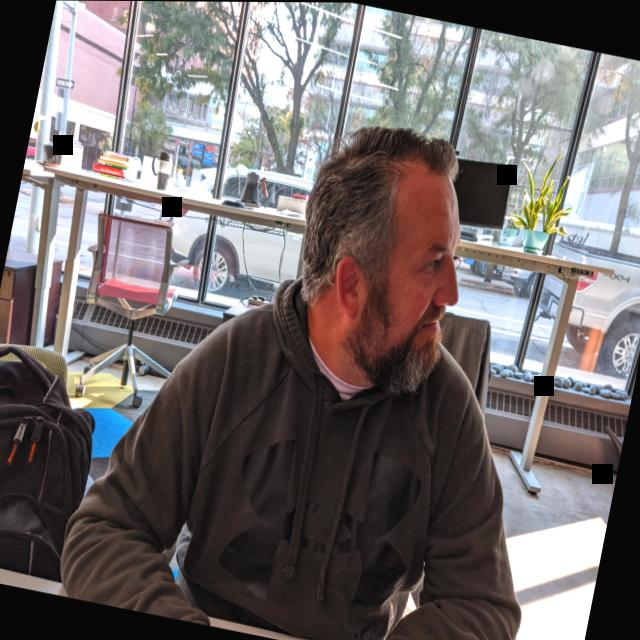NO-Mask: (322, 176, 479, 411)
